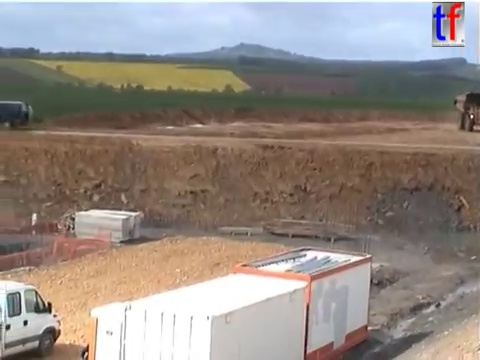truck: (1, 277, 63, 360), (452, 90, 480, 132)
